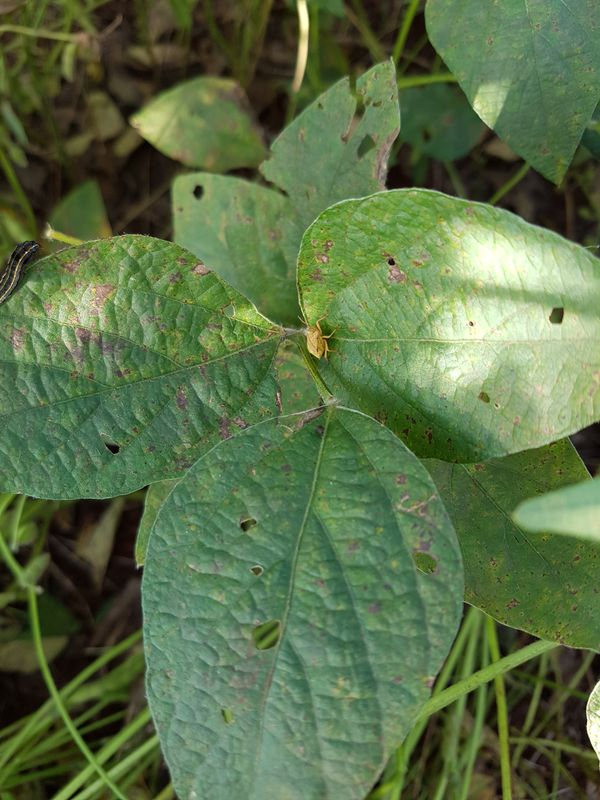Euschistus_heros_ninfa: (290, 312, 345, 369)
Spodoptera_albula: (1, 233, 48, 310)
